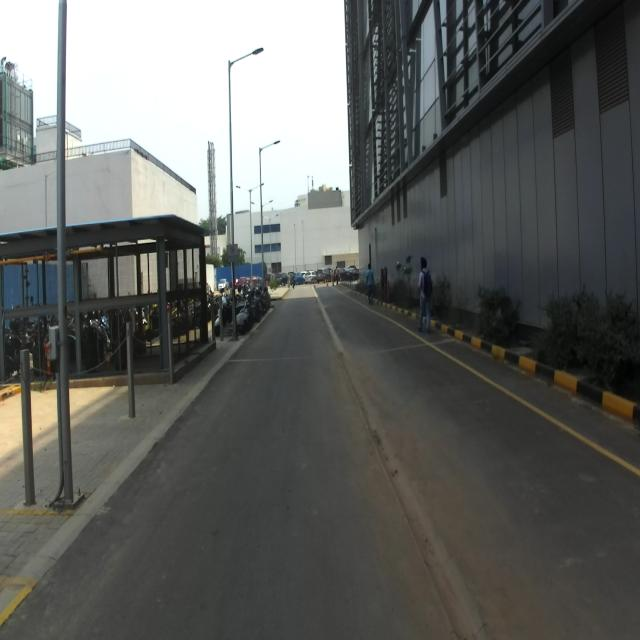barrier ahead at: (17, 344, 40, 508), (118, 313, 143, 422)
electric pole ahead at: (49, 0, 82, 516)
